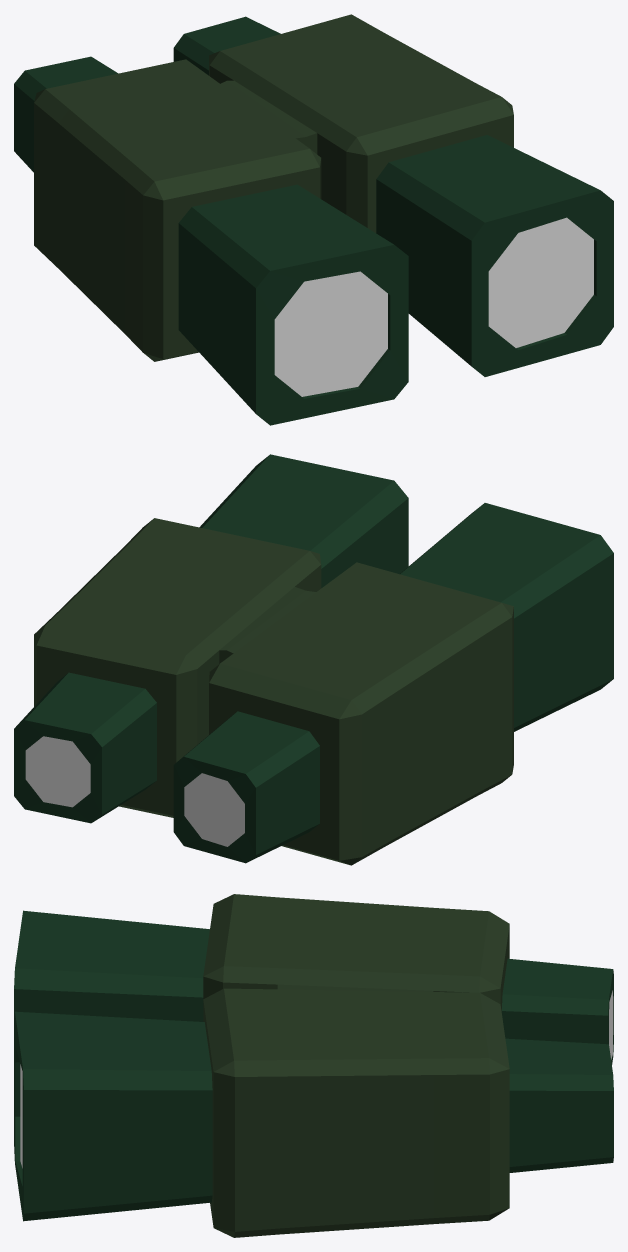
The model's file is weapon_mc0 - binocular.fbx.
3 views of the same model, one above another, from view 1: azimuth 30°, elevation 25°; view 2: azimuth 150°, elevation 25°; view 3: azimuth 270°, elevation 25° (orthographic).
Visible parts, largest first — view 1: mc0.main, mc0.ocular.r, mc0.ocular.l; view 2: mc0.main, mc0.ocular.r, mc0.ocular.l; view 3: mc0.main, mc0.ocular.l, mc0.ocular.r.
Part boxes in pixels (bbox=[...]): mc0.main: bbox=[34, 14, 513, 361]; mc0.ocular.r: bbox=[14, 56, 408, 425]; mc0.ocular.l: bbox=[173, 16, 613, 376]; mc0.main: bbox=[34, 518, 513, 865]; mc0.ocular.r: bbox=[173, 503, 613, 863]; mc0.ocular.l: bbox=[14, 454, 408, 823]; mc0.main: bbox=[203, 894, 509, 1237]; mc0.ocular.l: bbox=[14, 1011, 613, 1221]; mc0.ocular.r: bbox=[14, 910, 613, 1064].
Bounding box in the file's own units: 58.52 × 27.32 × 83.8.
